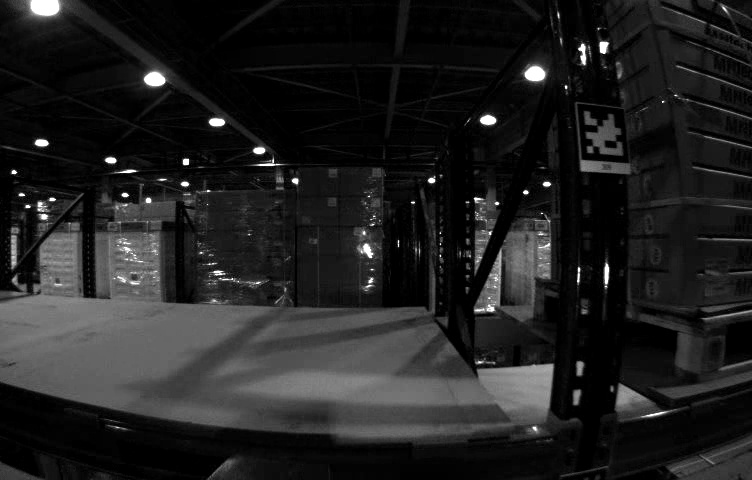True Barcode: (705, 259, 728, 295)
